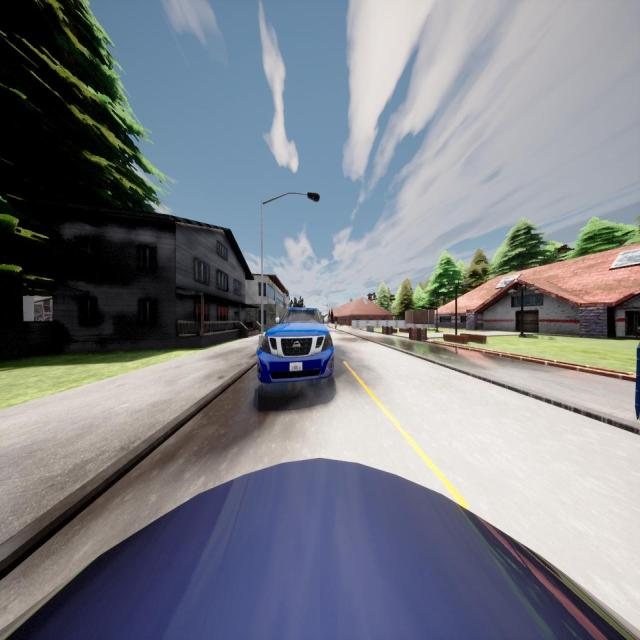Vehicle: (0, 460, 640, 640), (257, 307, 334, 383)
